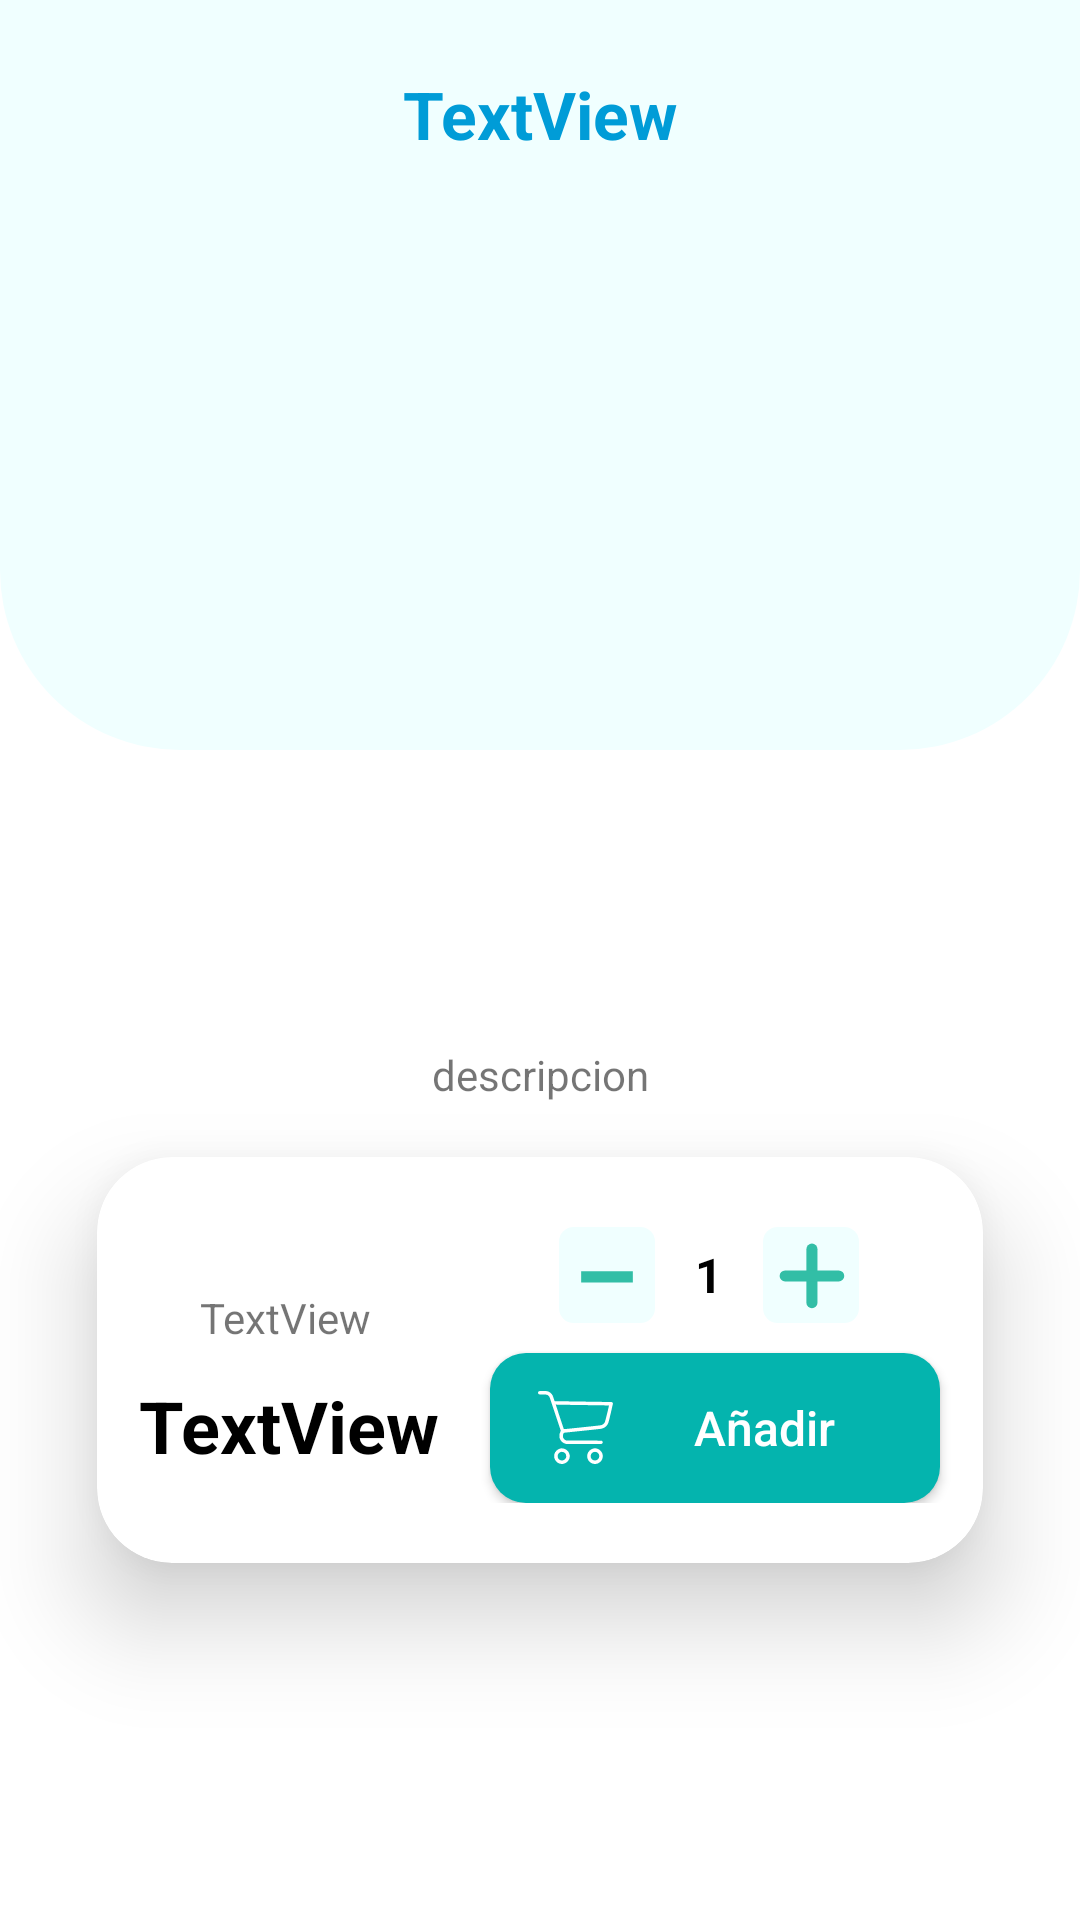

Icons on this 1080 x 1920 Android screen, each with the point to tap as (x=x, y=y):
add detail: (x=811, y=1275)
minus detail: (x=607, y=1277)
